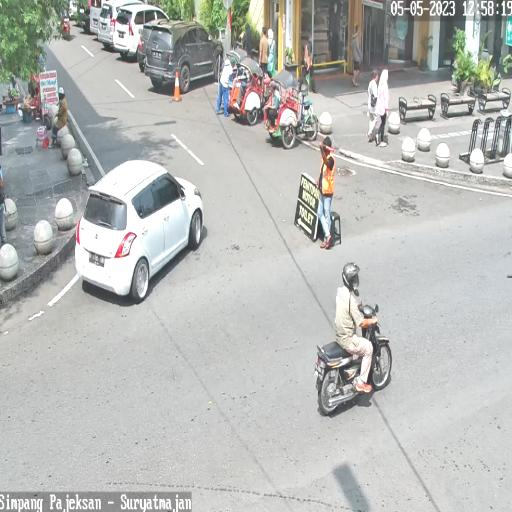mobil: (76, 158, 204, 305), (145, 22, 223, 93), (114, 4, 170, 58)
motor: (314, 304, 393, 416)
